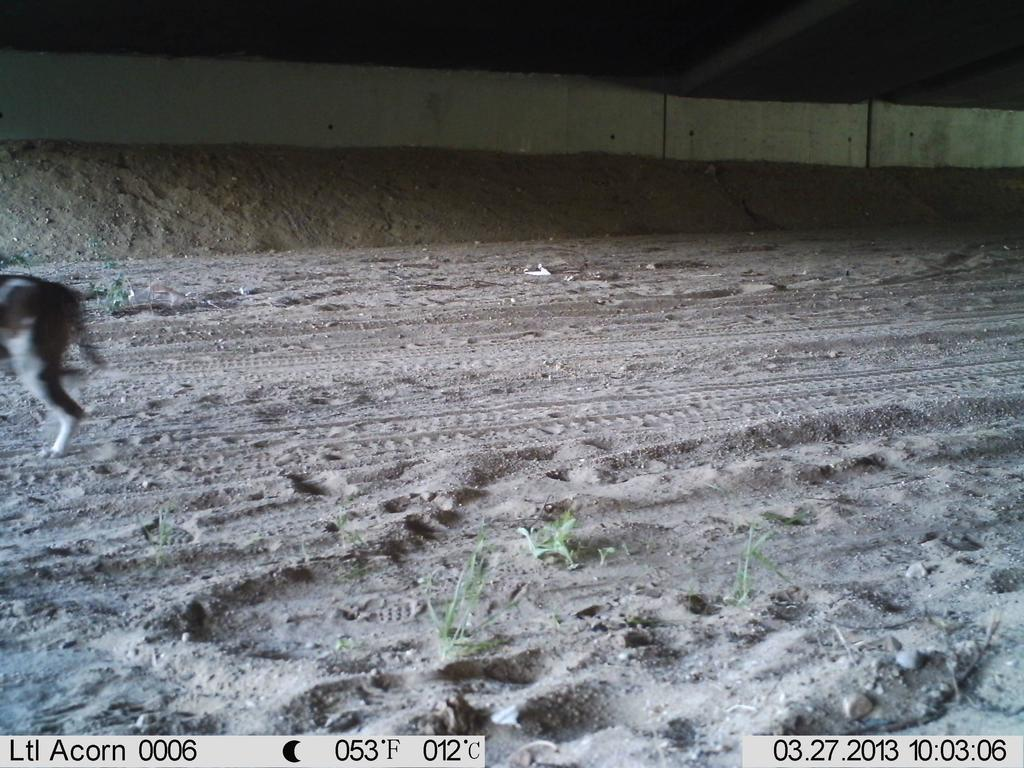dog: (3, 265, 125, 466)
